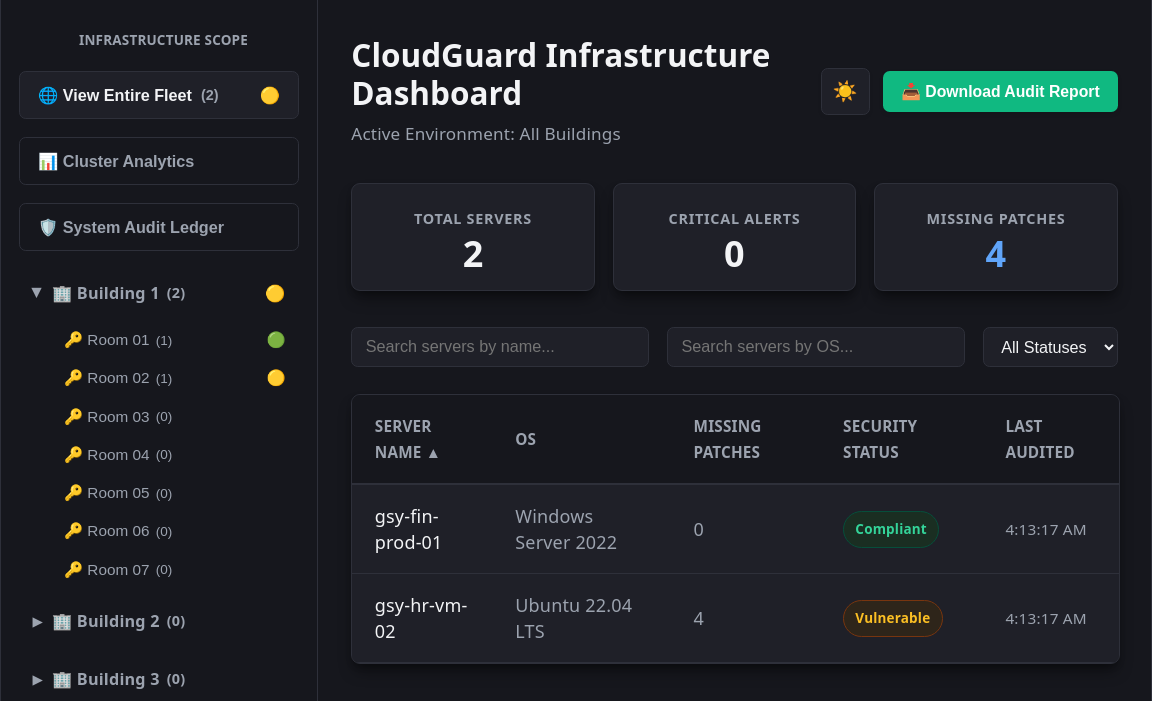
Scenario: App Root Component Integration › swaps the fleet grid for the audit ledger and snaps back via sidebar scope selection
Click the button with test id "sidebar-audit-ledger": {"x": 159, "y": 227} [19,203,299,251]
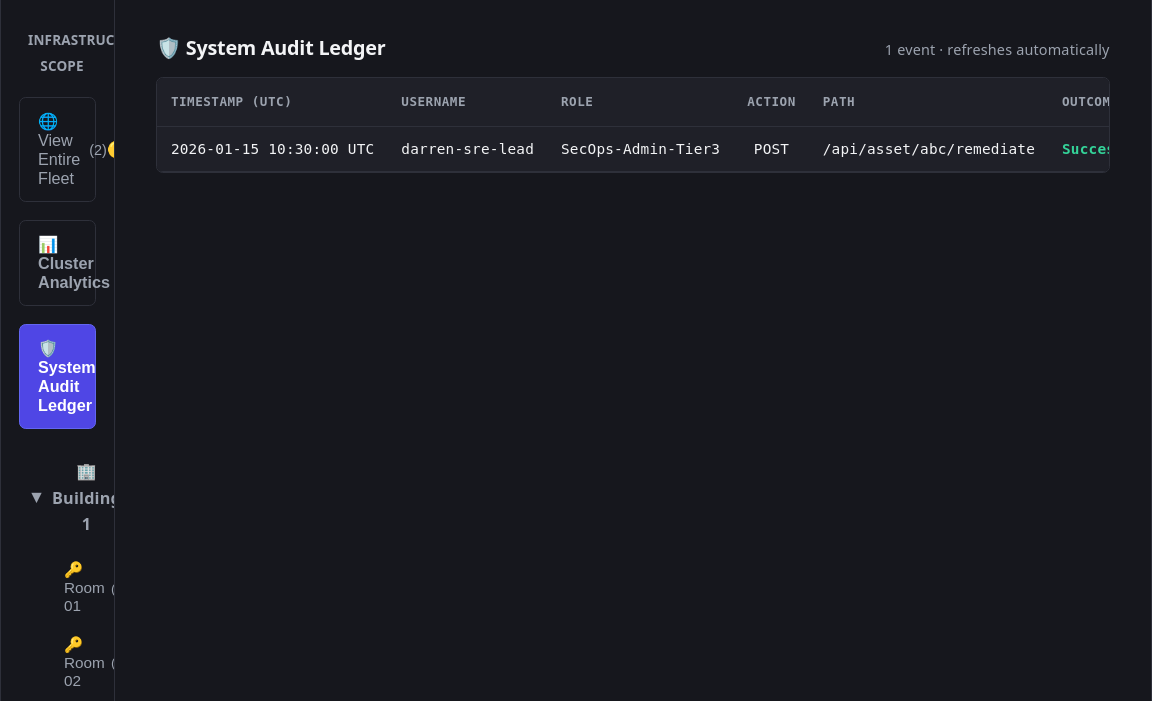
Expected: the text "darren-sre-lead" is shown, [388,127,548,172]
Expected: the text "SecOps-Admin-Tier3" is shown, [548,127,734,172]
Expected: the text "/api/asset/abc/remediate" is shown, [809,127,1049,172]
Click the text "🌐 View Entire Fleet": {"x": 59, "y": 150} [38,112,80,188]
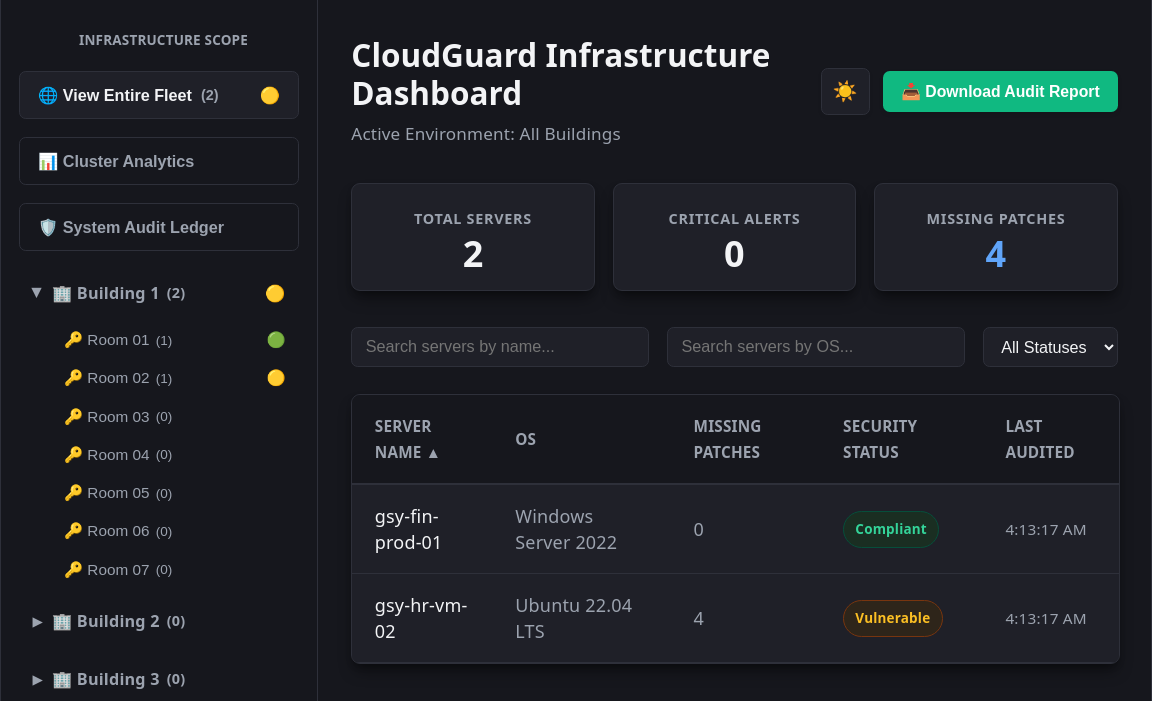
Expected: the text "gsy-fin-prod-01" is shown, [375,504,443,554]
Expected: the element with test id "audit-ledger" is gone
